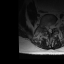CCS_normal: (48, 24, 50, 34)
LFS_normal: (52, 22, 55, 29)
LLS_normal: (50, 24, 52, 33)
RFS_normal: (44, 23, 46, 31)
RLS_normal: (46, 24, 48, 32)
